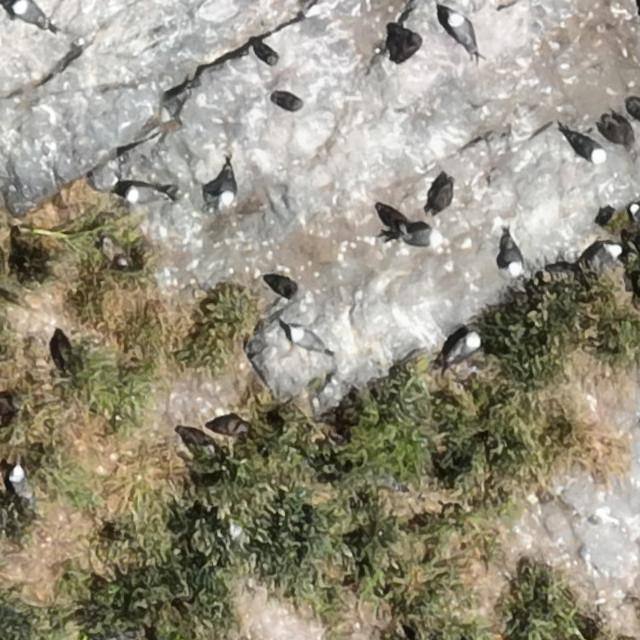umineko: (562, 128, 607, 164), (158, 86, 193, 123), (448, 332, 482, 367), (288, 322, 325, 353), (584, 242, 621, 271), (126, 187, 176, 206), (449, 15, 472, 48), (13, 2, 44, 26), (400, 227, 438, 245), (504, 244, 523, 277), (11, 466, 28, 498), (220, 172, 236, 205)
